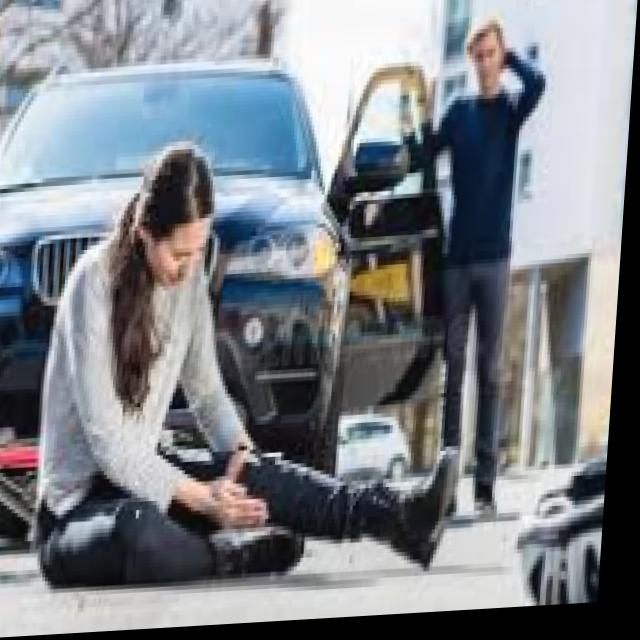injury: (111, 144, 212, 294), (454, 18, 516, 97), (224, 433, 271, 494)
